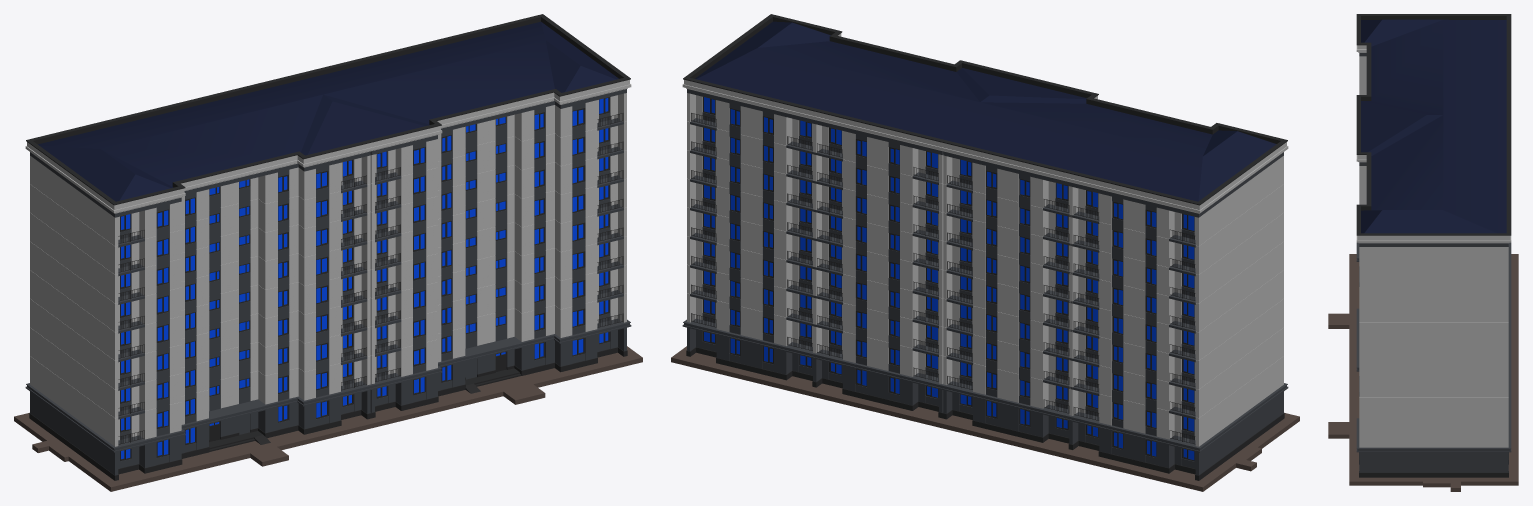
Rendered from OfficeBuilding_2.fbx.
3 renders of one model, left to right at view 1: azimuth 30°, elevation 25°; view 2: azimuth 150°, elevation 25°; view 3: azimuth 270°, elevation 25°, orthographic. The views are drawn at different scales.
Visible parts, largest first — view 1: Hostel building.004, Hostel building.010, Hostel building.015, Hostel building.016, Hostel building.007, Hostel building.018, Hostel building.012, Hostel building.009, Hostel building.017, Hostel building.014, Hostel building.013, Hostel building.011 (+6 smaller); view 2: Hostel building.004, Hostel building.010, Hostel building.015, Hostel building.018, Hostel building.016, Hostel building.014, Hostel building.007, Hostel building.013, Hostel building.009, Hostel building.012, Hostel building.017, Hostel building.011 (+2 smaller); view 3: Hostel building.004, Hostel building.010, Hostel building.012, Hostel building.007, Hostel building.009, Hostel building.011, Hostel building.006, Hostel building.005.
Part boxes in pixels (bbox=[...]): Hostel building.004: bbox=[30, 93, 626, 446]; Hostel building.010: bbox=[38, 21, 618, 201]; Hostel building.015: bbox=[121, 98, 608, 459]; Hostel building.016: bbox=[120, 112, 610, 468]; Hostel building.007: bbox=[25, 14, 631, 213]; Hostel building.018: bbox=[120, 97, 609, 461]; Hostel building.012: bbox=[14, 346, 642, 491]; Hostel building.009: bbox=[30, 327, 626, 475]; Hostel building.017: bbox=[120, 103, 609, 439]; Hostel building.014: bbox=[118, 118, 623, 444]; Hostel building.013: bbox=[118, 113, 623, 444]; Hostel building.011: bbox=[25, 319, 631, 452]; Hostel building.004: bbox=[687, 93, 1283, 446]; Hostel building.010: bbox=[695, 21, 1276, 201]; Hostel building.015: bbox=[704, 97, 1194, 459]; Hostel building.018: bbox=[703, 97, 1194, 461]; Hostel building.016: bbox=[702, 112, 1194, 468]; Hostel building.014: bbox=[690, 118, 1195, 444]; Hostel building.007: bbox=[682, 14, 1288, 213]; Hostel building.013: bbox=[691, 113, 1195, 444]; Hostel building.009: bbox=[687, 327, 1283, 475]; Hostel building.012: bbox=[671, 346, 1299, 491]; Hostel building.017: bbox=[703, 103, 1194, 439]; Hostel building.011: bbox=[682, 319, 1288, 452]; Hostel building.004: bbox=[1359, 56, 1508, 447]; Hostel building.010: bbox=[1361, 19, 1506, 233]; Hostel building.012: bbox=[1328, 254, 1518, 491]; Hostel building.007: bbox=[1356, 14, 1511, 243]; Hostel building.009: bbox=[1359, 452, 1508, 472]; Hostel building.011: bbox=[1356, 242, 1511, 452]; Hostel building.006: bbox=[1359, 266, 1508, 477]; Hostel building.005: bbox=[1359, 53, 1508, 246].
Bounding box in the file's own units: 6770 × 3376 × 2270.
